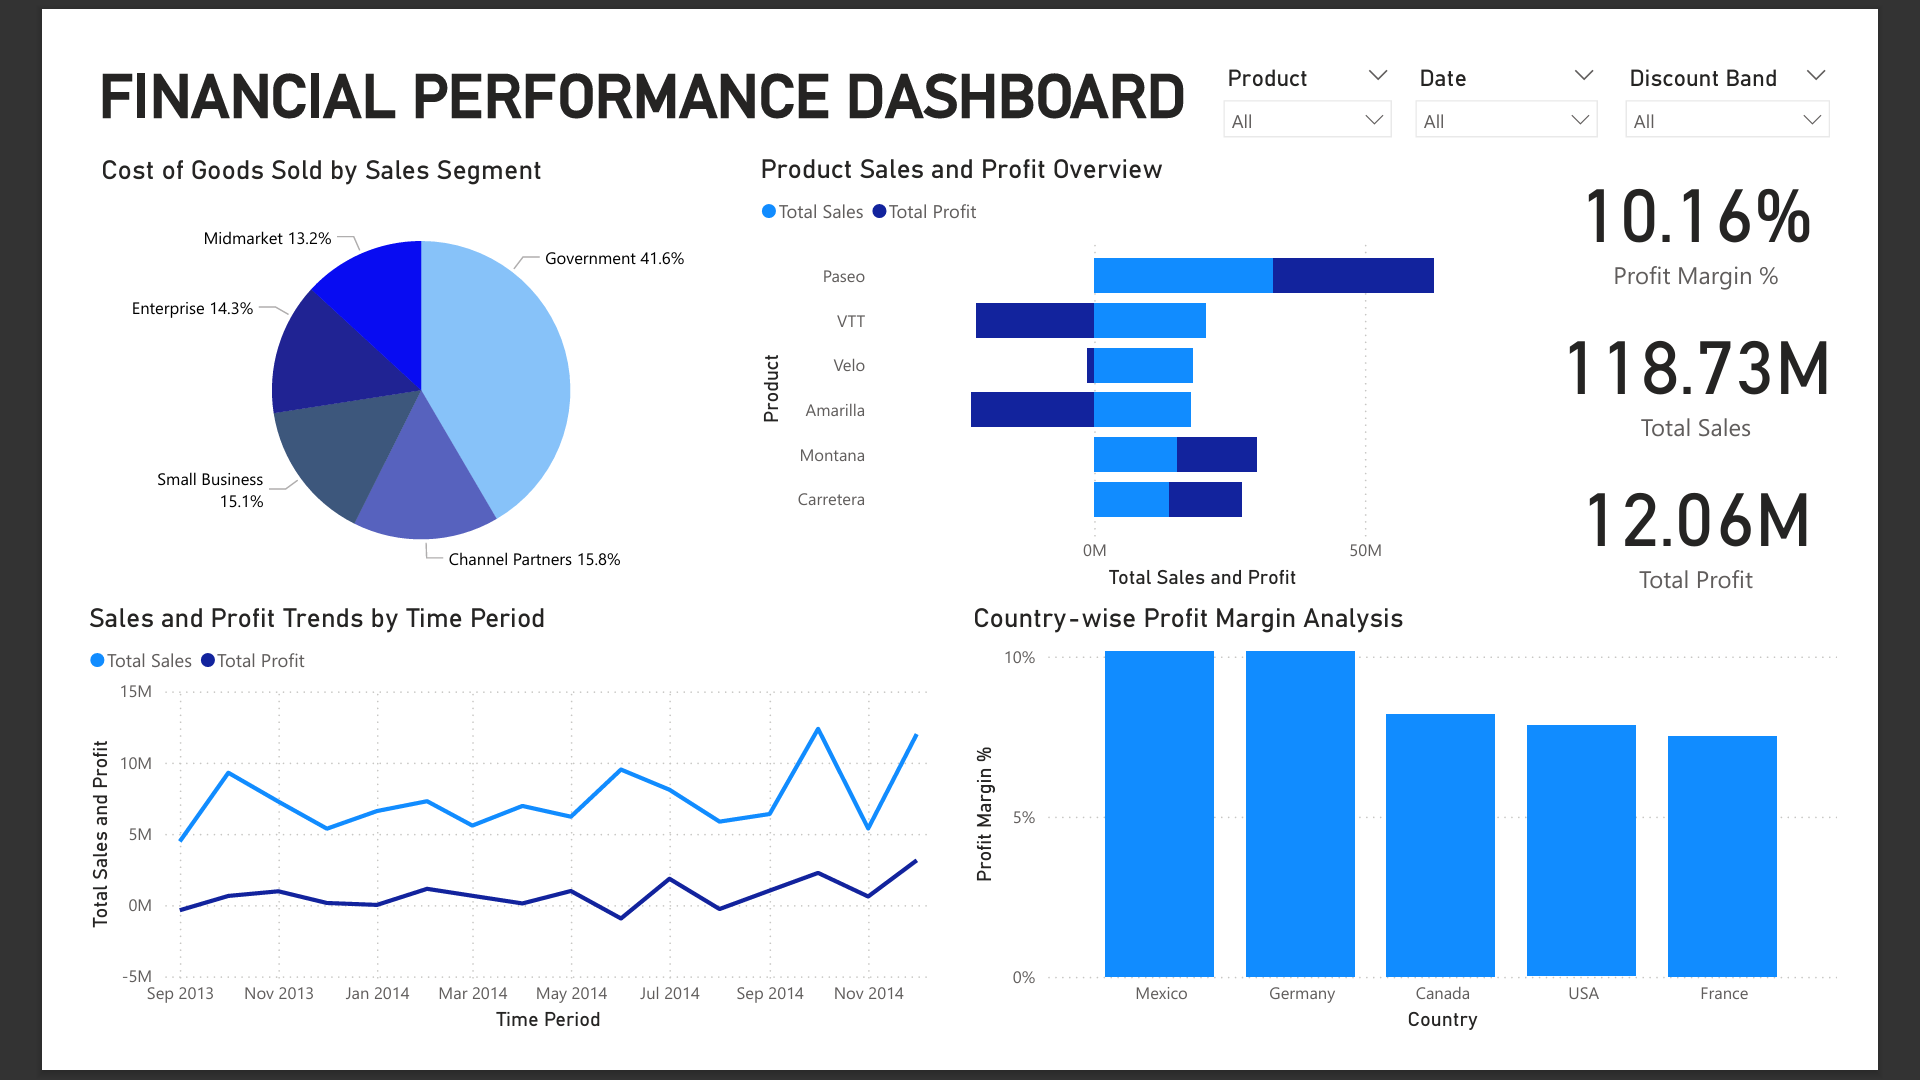

Layout of this report page (visuals, bound fields, positions):
{"tool":"powerbi","page":{"name":"Page 1","canvas":[1280,720],"ordinal":0},"visuals":[{"type":"card","fields":{"Values":["Sum(financials.Sales)"]},"box":[1067.5,185,210,110],"z":0},{"type":"card","fields":{"Values":["Sum(financials.Profit)"]},"box":[1067.5,295,210,110],"z":1000},{"type":"card","fields":{"Values":["financials.Profit Margin %"]},"box":[1067.5,75,210,110],"z":2000},{"type":"lineChart","title":"Sales and Profit Trends by Time Period","fields":{"Y":["Sum(financials.Sales)","Sum(financials.Profit)"],"Category":["financials.Date.Variation.Date Hierarchy.Year","financials.Date.Variation.Date Hierarchy.Quarter","financials.Date.Variation.Date Hierarchy.Month","financials.Date.Variation.Date Hierarchy.Day"]},"box":[0,400,640,320],"z":3000},{"type":"barChart","title":"Product Sales and Profit Overview","fields":{"Category":["financials.Product"],"Y":["Sum(financials.Sales)","Sum(financials.Profit)"]},"box":[486.2,75,581.2,325],"z":4000},{"type":"columnChart","title":"Country-wise Profit Margin Analysis","fields":{"Y":["financials.Profit Margin %"],"Category":["financials.Country"]},"box":[640,400,640,320],"z":5000},{"type":"pieChart","title":"Cost of Goods Sold by Sales Segment","fields":{"Y":["Sum(financials.COGS)"],"Category":["financials.Segment"]},"box":[8.9,75.6,477.8,324.4],"z":6000},{"type":"textbox","box":[0,8.9,821.1,66.7],"z":7000},{"type":"slicer","fields":{"Values":["financials.Discount Band"]},"box":[1112.2,8.9,167.8,66.7],"z":8000},{"type":"slicer","fields":{"Values":["financials.Date.Variation.Date Hierarchy.Year","financials.Date.Variation.Date Hierarchy.Month"]},"box":[960,8.9,152.2,66.7],"z":9000},{"type":"slicer","fields":{"Values":["financials.Product"]},"box":[821.1,8.9,142.2,66.7],"z":10000}]}

Visuals, with their boxes in screenshot pixels (x1, y1, x2, y2), scaled from the page's 1280x720 canvas onto the 1920x1080 screenshot:
card - Sum(financials.Sales): x1=1601 y1=278 x2=1916 y2=442
card - Sum(financials.Profit): x1=1601 y1=442 x2=1916 y2=608
card - financials.Profit Margin %: x1=1601 y1=112 x2=1916 y2=278
"Sales and Profit Trends by Time Period" lineChart: x1=0 y1=600 x2=960 y2=1079
"Product Sales and Profit Overview" barChart: x1=729 y1=112 x2=1601 y2=600
"Country-wise Profit Margin Analysis" columnChart: x1=960 y1=600 x2=1919 y2=1079
"Cost of Goods Sold by Sales Segment" pieChart: x1=13 y1=113 x2=730 y2=600
textbox: x1=0 y1=13 x2=1232 y2=113
slicer - financials.Discount Band: x1=1668 y1=13 x2=1919 y2=113
slicer - financials.Date.Variation.Date Hierarchy.Year x financials.Date.Variation.Date Hierarchy.Month: x1=1440 y1=13 x2=1668 y2=113
slicer - financials.Product: x1=1232 y1=13 x2=1445 y2=113
